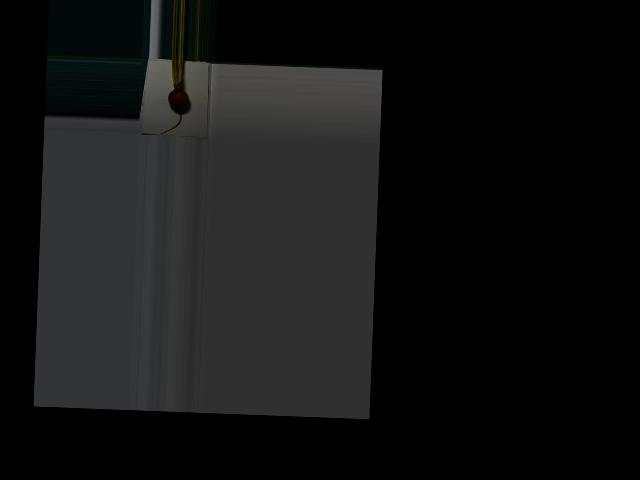beet: (161, 59, 190, 135)
